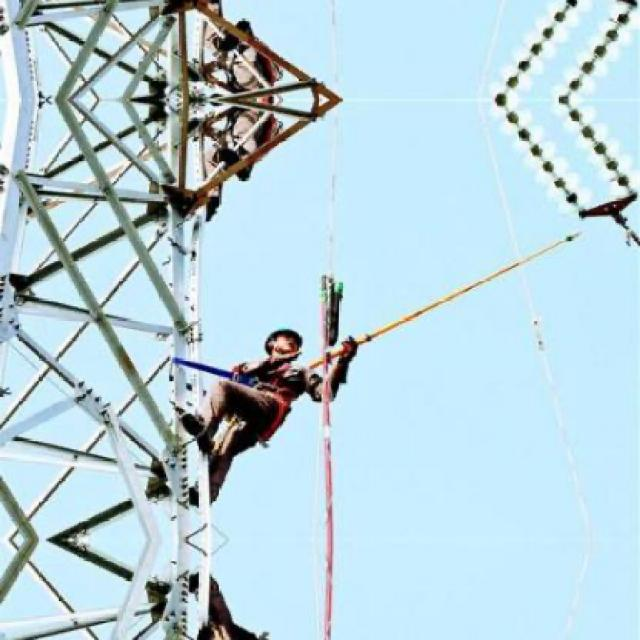helmet: (260, 317, 309, 363)
